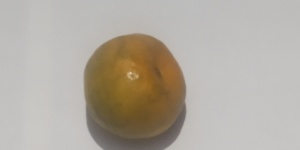BAD: (84, 34, 186, 138)
